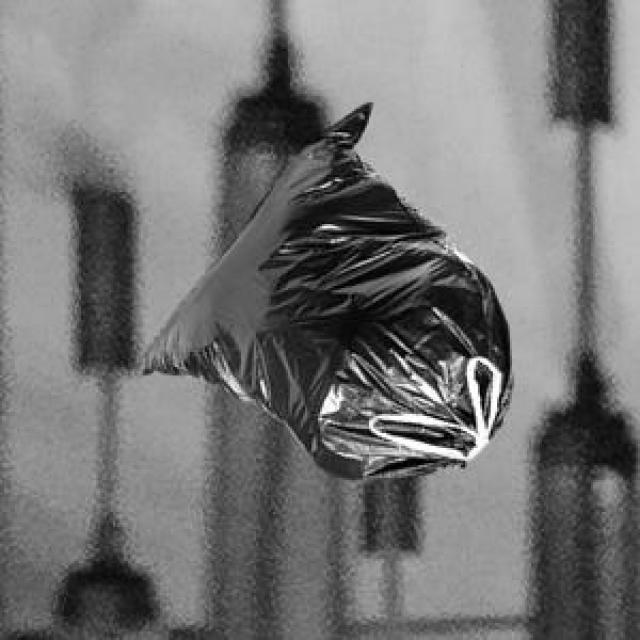miscellaneous trash: (139, 98, 508, 480)
